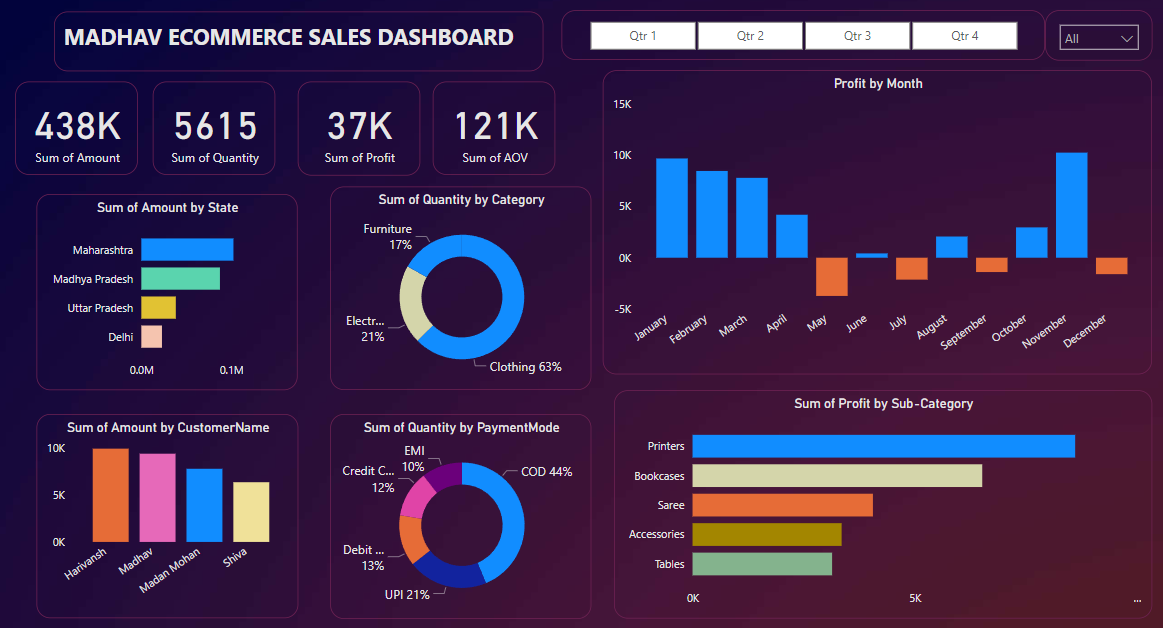

Layout of this report page (visuals, bound fields, positions):
{"tool":"powerbi","page":{"name":"Page 1","canvas":[1280,720],"ordinal":0},"visuals":[{"type":"columnChart","title":"Profit by Month","fields":{"Category":["Orders.Order Date.Variation.Date Hierarchy.Month"],"Y":["Details.Profit"]},"box":[661.8,83.6,602.7,333.6],"z":0},{"type":"barChart","fields":{"Category":["Details.Sub-Category"],"Y":["Details.Profit"]},"box":[674.5,434.5,590,250],"z":1000},{"type":"donutChart","fields":{"Category":["Details.Category"],"Y":["Details.Quantity"]},"box":[377.3,211.8,272.7,205.5],"z":2000},{"type":"donutChart","fields":{"Y":["Details.Quantity"],"Category":["Details.PaymentMode"]},"box":[377.1,460,272.9,224.3],"z":3000},{"type":"card","fields":{"Values":["Details.Amount"]},"box":[18.2,95.5,134.5,102.7],"z":4000},{"type":"card","fields":{"Values":["Details.Quantity"]},"box":[169.1,95.5,134.5,102.7],"z":5000},{"type":"card","fields":{"Values":["Details.Profit"]},"box":[327.1,95.7,134.3,102.9],"z":6000},{"type":"card","fields":{"Values":["Details.AOV"]},"box":[475.5,95.5,134.5,102.7],"z":7000},{"type":"barChart","fields":{"Category":["Orders.State"],"Y":["Details.Amount"]},"box":[41.5,219.2,286.2,215.4],"z":8000},{"type":"columnChart","fields":{"Category":["Orders.CustomerName"],"Y":["Details.Amount"]},"box":[41.4,460,287.1,224.3],"z":9000},{"type":"textbox","box":[60,18.6,537.1,65.7],"z":10000},{"type":"slicer","fields":{"Values":["Orders.Order Date.Variation.Date Hierarchy.Quarter"]},"box":[616.7,18.3,530,54.2],"z":11000},{"type":"slicer","fields":{"Values":["Orders.State"]},"box":[1147.6,17.8,117.9,54.8],"z":12000}]}

Visuals, with their boxes on the page's 1280x720 design canvas (x1, y1, x2, y2). These are canvas units, not pixel positions in the 1163x628 screenshot, which may show the page scaled, cropped or inside an application window:
"Profit by Month" columnChart: <region>662, 84, 1264, 417</region>
barChart - Details.Sub-Category x Details.Profit: <region>674, 434, 1264, 684</region>
donutChart - Details.Category x Details.Quantity: <region>377, 212, 650, 417</region>
donutChart - Details.Quantity x Details.PaymentMode: <region>377, 460, 650, 684</region>
card - Details.Amount: <region>18, 96, 153, 198</region>
card - Details.Quantity: <region>169, 96, 304, 198</region>
card - Details.Profit: <region>327, 96, 461, 199</region>
card - Details.AOV: <region>476, 96, 610, 198</region>
barChart - Orders.State x Details.Amount: <region>42, 219, 328, 435</region>
columnChart - Orders.CustomerName x Details.Amount: <region>41, 460, 328, 684</region>
textbox: <region>60, 19, 597, 84</region>
slicer - Orders.Order Date.Variation.Date Hierarchy.Quarter: <region>617, 18, 1147, 72</region>
slicer - Orders.State: <region>1148, 18, 1266, 73</region>
